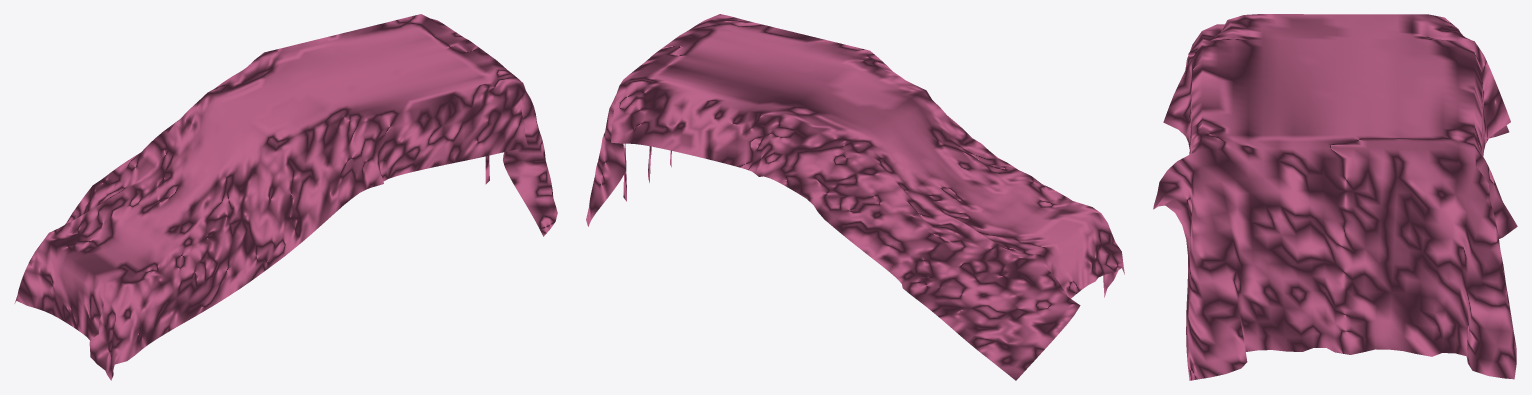
File: crate_dry_1_cloth_a.glb
3 renders of one model, left to right at view 1: azimuth 30°, elevation 25°; view 2: azimuth 150°, elevation 25°; view 3: azimuth 270°, elevation 25°, orthographic. The views are drawn at different scales.
Bounding box in the file's own units: 3.52 × 1.59 × 1.63.
